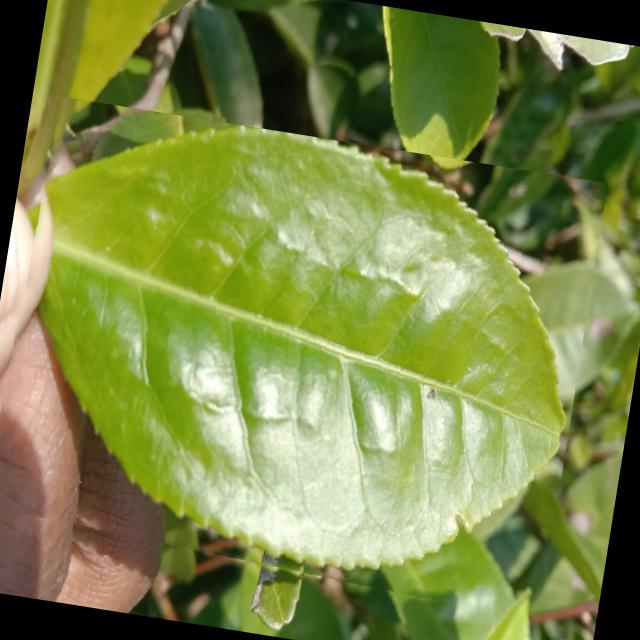Category B 2-4 days: (0, 94, 607, 622)
